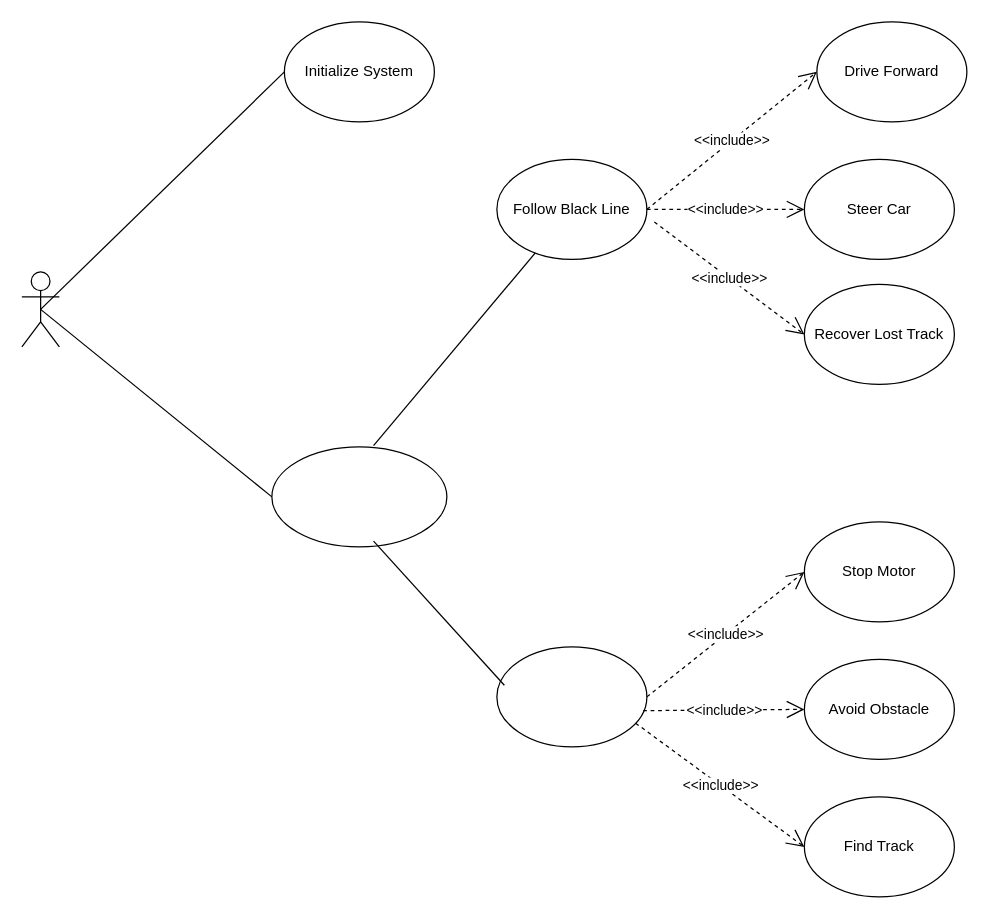
Some shapes in this 989 by 919 pixel diagram are drawn without their labels. Here are the shapes that lost their labels. From the top down, the centre of each, then its label:
the point at 40,309: User
the point at 359,496: Autonomous Navigation
the point at 571,696: Detect Obstacle
